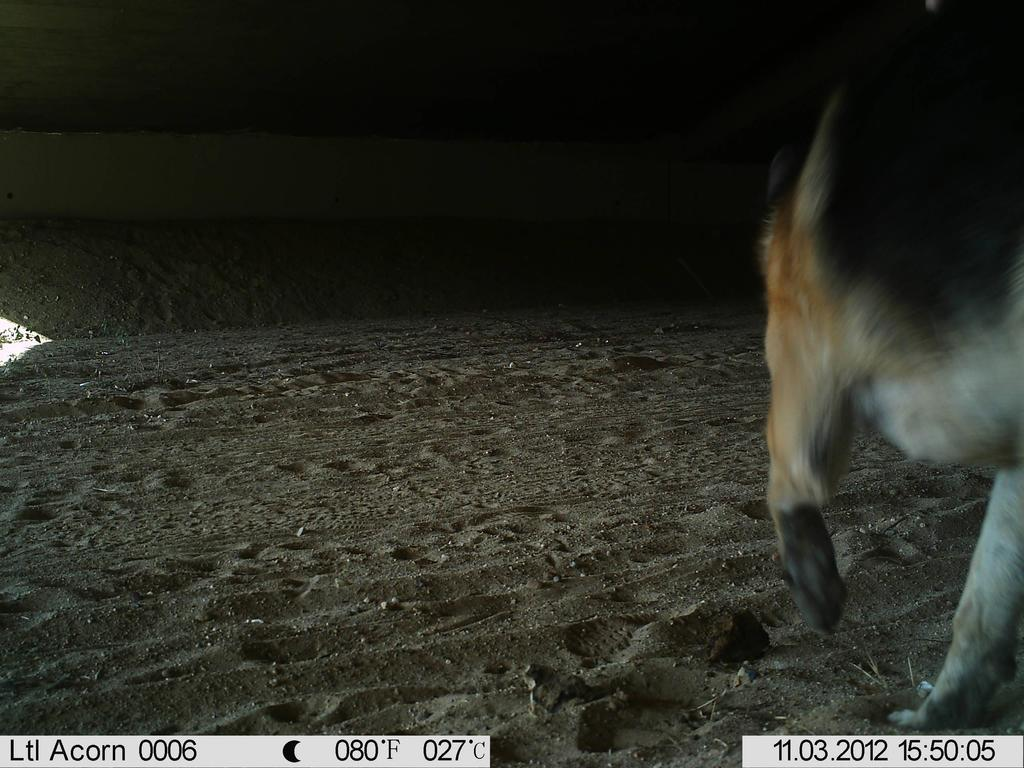dog: (724, 43, 1023, 738)
